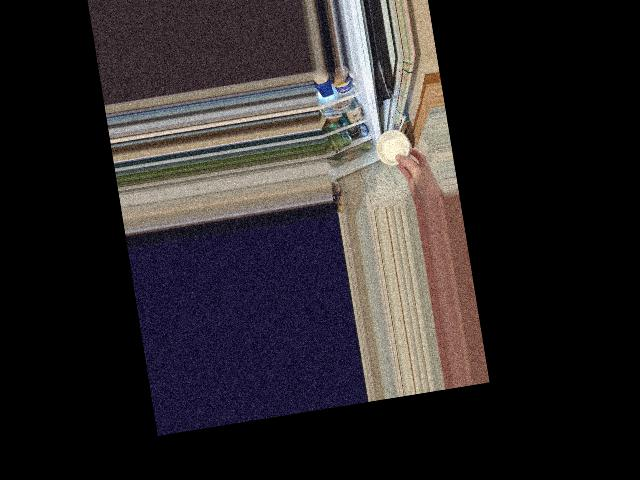cotage: (376, 128, 416, 168)
